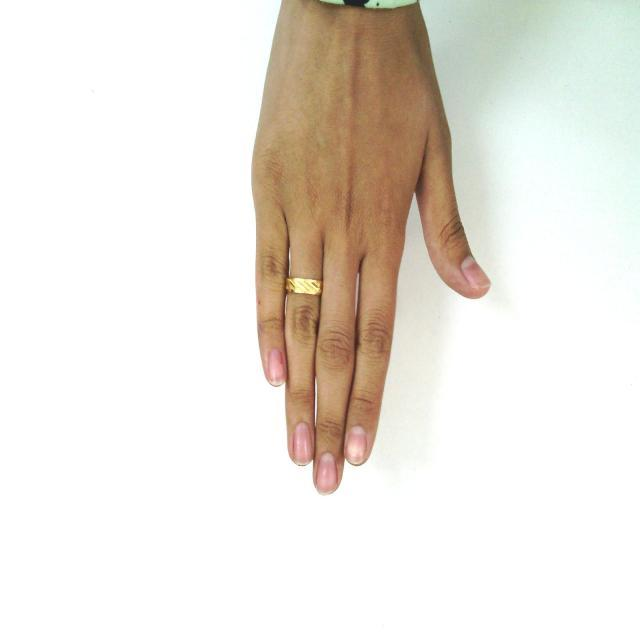Fingernail: (315, 453, 337, 494), (462, 257, 490, 287), (292, 423, 311, 465), (346, 425, 366, 463), (268, 349, 284, 385)
